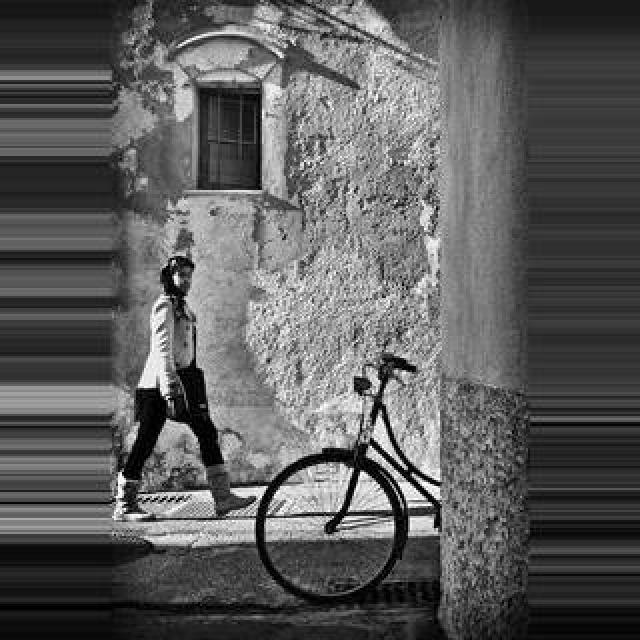MC-Bike: (112, 254, 260, 520)
Person: (253, 354, 441, 600)
